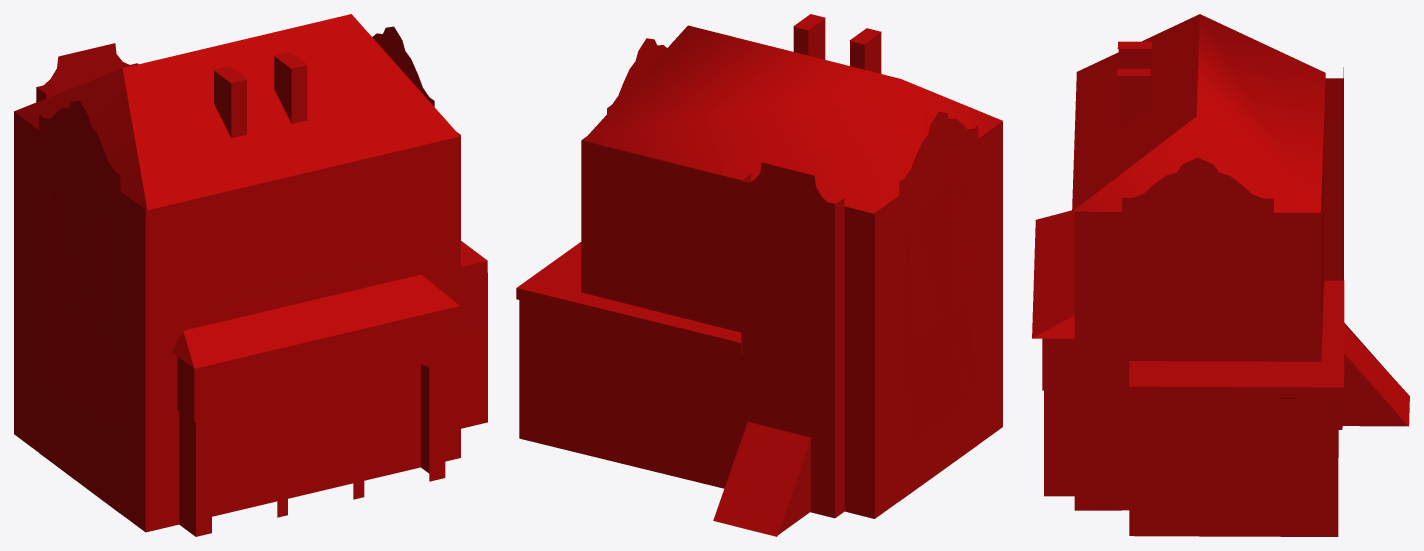
Rendered from residence_colony01_tier02_01_house_02_lod3.glb.
3 views of the same model, side by side, from view 1: azimuth 30°, elevation 25°; view 2: azimuth 150°, elevation 25°; view 3: azimuth 270°, elevation 25° (orthographic). The views are drawn at different scales.
Visible parts, largest first — view 1: MODEL_MODEL_residence_colony01_tier02_01_house_02_lod3; view 2: MODEL_MODEL_residence_colony01_tier02_01_house_02_lod3; view 3: MODEL_MODEL_residence_colony01_tier02_01_house_02_lod3.
Boxes of the visible parts, x1,y1,x2,y2 form: MODEL_MODEL_residence_colony01_tier02_01_house_02_lod3: (14, 14, 487, 536); MODEL_MODEL_residence_colony01_tier02_01_house_02_lod3: (516, 14, 1002, 536); MODEL_MODEL_residence_colony01_tier02_01_house_02_lod3: (1032, 14, 1409, 536).
Size of the model in its own units: 1.71 by 1.79 by 1.63.
